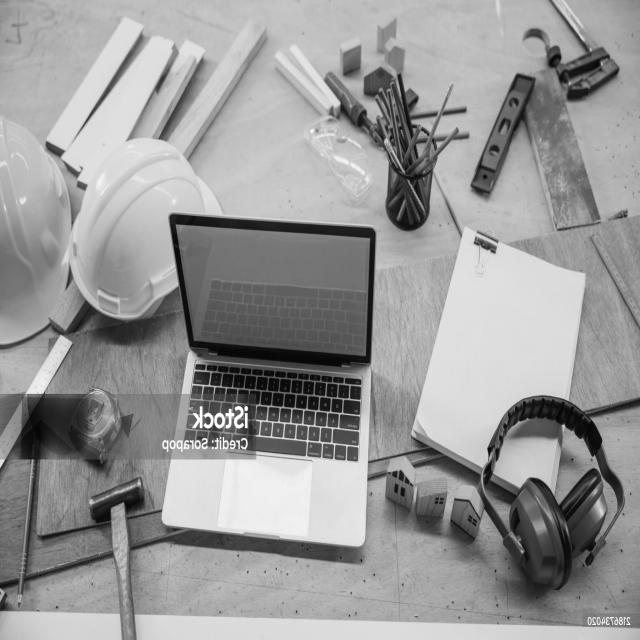c_clamp: (511, 0, 620, 107)
hammer: (73, 457, 154, 640)
helmet: (63, 126, 223, 327), (0, 112, 73, 347)
laptop: (150, 201, 383, 570)
level: (464, 62, 539, 208)
measuring_tape: (55, 381, 145, 465)
pencil: (366, 73, 466, 244)
pens: (2, 403, 50, 619)
ruler: (0, 336, 83, 472)
